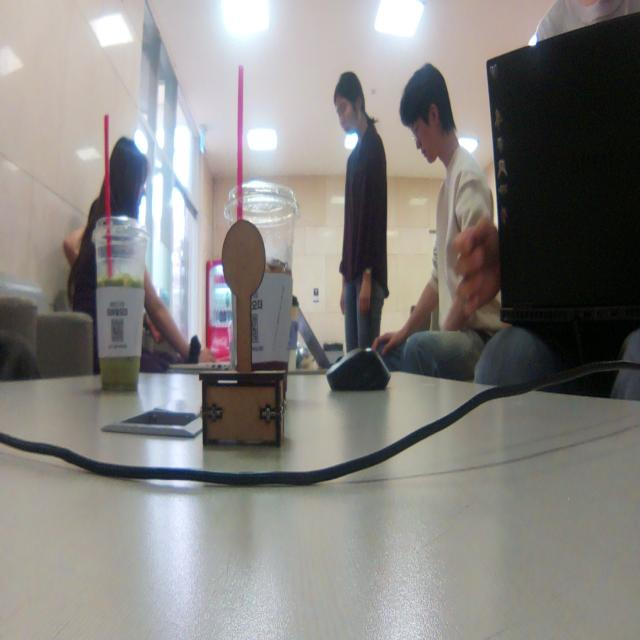target: (198, 220, 288, 449)
